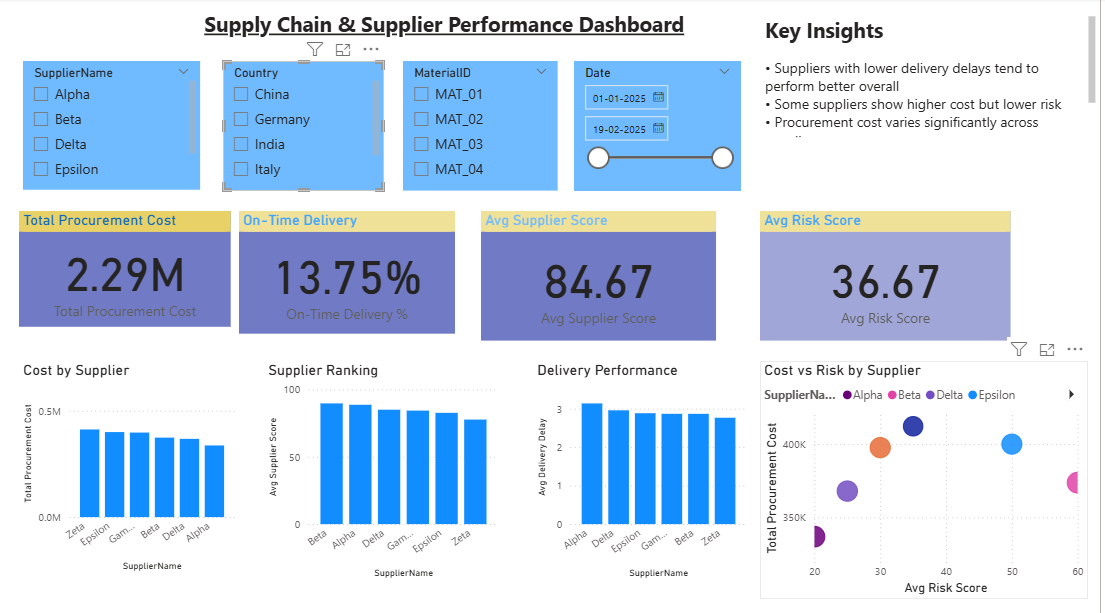

This screenshot's page, from the dashboard's own definition file:
{"tool":"powerbi","page":{"name":"Supply chain Dashboadrd","canvas":[1280,720],"ordinal":1},"visuals":[{"type":"card","title":"Total Procurement Cost","fields":{"Values":["Procurement_Data.Total Procurement Cost"]},"box":[28.9,246.5,245.4,134.2],"z":0},{"type":"card","title":"On-Time Delivery","fields":{"Values":["Procurement_Data.On-Time Delivery %"]},"box":[283.5,246.5,250,142.4],"z":1000},{"type":"card","title":"Avg Supplier Score","fields":{"Values":["Procurement_Data.Avg Supplier Score"]},"box":[563.6,246.5,272,150.5],"z":2000},{"type":"card","title":"Avg Risk Score","fields":{"Values":["Procurement_Data.Avg Risk Score"]},"box":[886.5,246.5,290.5,150.5],"z":3000},{"type":"clusteredColumnChart","title":"Cost by Supplier","fields":{"Category":["Suppliers.SupplierName"],"Y":["Procurement_Data.Total Procurement Cost"]},"box":[28.9,420.1,254.6,247.7],"z":4000},{"type":"clusteredColumnChart","title":"Supplier Ranking","fields":{"Category":["Suppliers.SupplierName"],"Y":["Procurement_Data.Avg Supplier Score"]},"box":[312.5,420.1,276.6,255.8],"z":5000},{"type":"clusteredColumnChart","title":"Delivery Performance","fields":{"Category":["Suppliers.SupplierName"],"Y":["Procurement_Data.Avg Delivery Delay"]},"box":[623.8,420.1,252.3,255.8],"z":6000},{"type":"scatterChart","title":"Cost vs Risk by Supplier","fields":{"X":["Procurement_Data.Avg Risk Score"],"Y":["Procurement_Data.Total Procurement Cost"],"Size":["Procurement_Data.Avg Supplier Score"],"Series":["Suppliers.SupplierName"]},"box":[886.5,420.1,379.6,275.4],"z":7000},{"type":"textbox","box":[238.4,8.1,649.3,56.7],"z":8000},{"type":"textbox","box":[887.7,16.2,392.3,150.5],"z":9000},{"type":"slicer","fields":{"Values":["Suppliers.SupplierName"]},"box":[33.6,72.9,204.8,149.3],"z":10000},{"type":"slicer","fields":{"Values":["Suppliers.Country"]},"box":[265,72.9,186.3,150.5],"z":11000},{"type":"slicer","fields":{"Values":["Procurement_Data.MaterialID"]},"box":[473.3,72.9,179.4,150.5],"z":12000},{"type":"slicer","fields":{"Values":["Procurement_Data.Date"]},"box":[671.2,72.9,193.3,150.5],"z":13000}]}

Visuals, with their boxes in screenshot pixels (x1, y1, x2, y2), scaled from the page's 1280x720 canvas onto the 1105x613 screenshot:
"Total Procurement Cost" card: 25 210 237 324
"On-Time Delivery" card: 245 210 461 331
"Avg Supplier Score" card: 487 210 721 338
"Avg Risk Score" card: 765 210 1016 338
"Cost by Supplier" clusteredColumnChart: 25 358 245 569
"Supplier Ranking" clusteredColumnChart: 270 358 509 575
"Delivery Performance" clusteredColumnChart: 539 358 756 575
"Cost vs Risk by Supplier" scatterChart: 765 358 1093 592
textbox: 206 7 766 55
textbox: 766 14 1104 142
slicer - Suppliers.SupplierName: 29 62 206 189
slicer - Suppliers.Country: 229 62 390 190
slicer - Procurement_Data.MaterialID: 409 62 563 190
slicer - Procurement_Data.Date: 579 62 746 190
